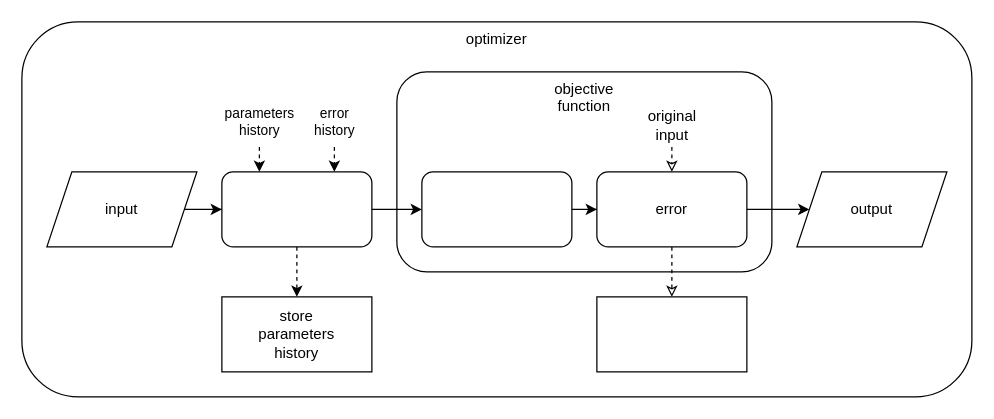
Some shapes in this 994 by 419 pixel diagram are drawn without their labels. The shapes that lost their labels are listed below. From the top down, each one's centre as x and y in pixels, then its label:
pixel 296 209: predictor
pixel 496 209: expression
pixel 671 334: store error history
